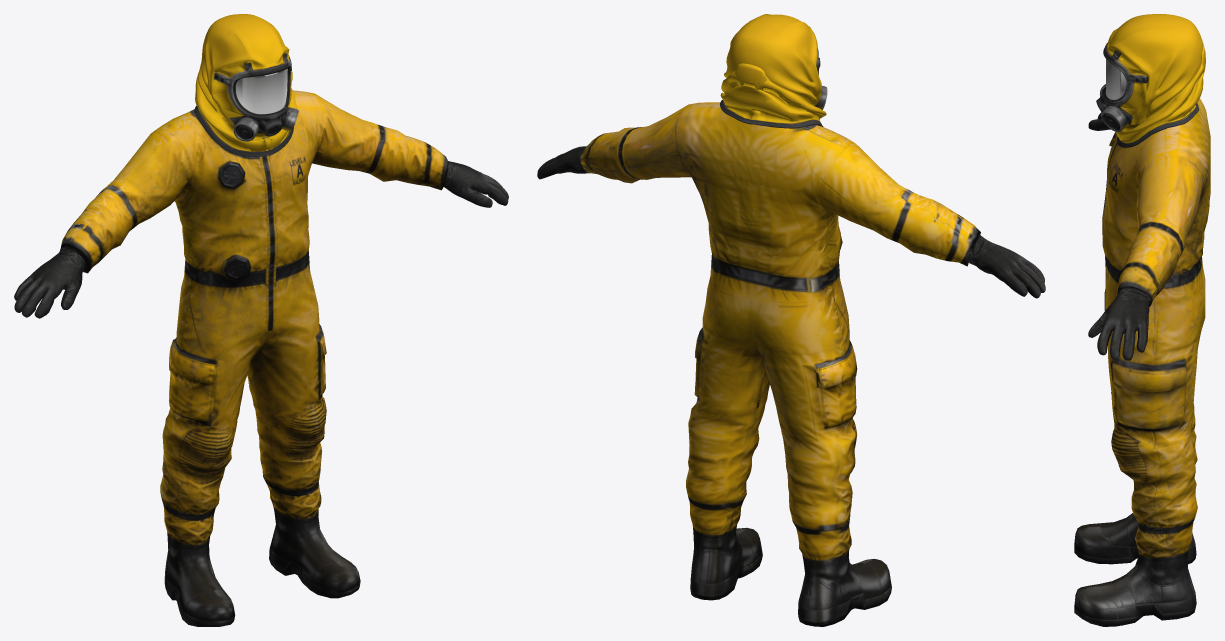
Rendered from CHARACTER.fbx.
3 renders of one model, left to right at view 1: azimuth 30°, elevation 25°; view 2: azimuth 150°, elevation 25°; view 3: azimuth 270°, elevation 25°, orthographic. The views are drawn at different scales.
Visible parts, largest first — view 1: part_00000001.002; view 2: part_00000001.002; view 3: part_00000001.002.
Boxes of the visible parts, x1,y1,x2,y2 form: part_00000001.002: (14,14,508,626); part_00000001.002: (537,14,1045,626); part_00000001.002: (1074,14,1210,626).
Bounding box in the file's own units: 168 × 186 × 40.55.
3 materials, 3 textured.
